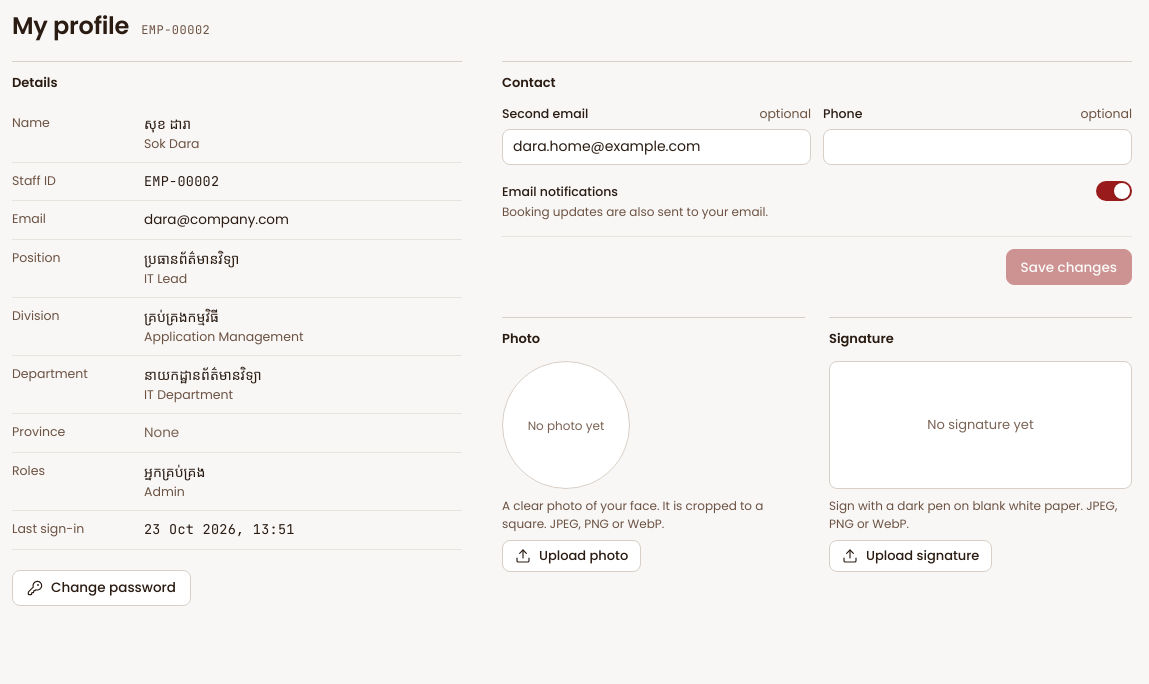
Test: ProfileView › shows API field errors under the field and in the summary
The width and height of the screenshot is (1149, 684).
Replace the text in the field with id "secondary_email" with "dara@company.com" at (656, 147), box 502,129 -> 811,165
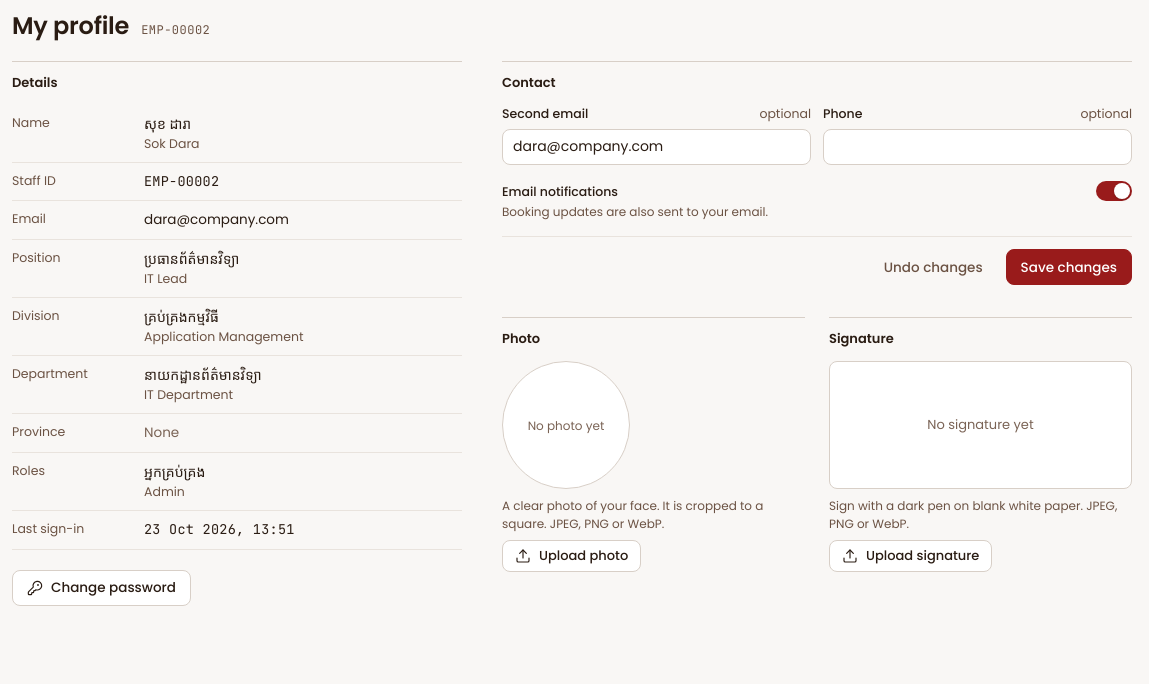
Submit the form, box 502,105 -> 1132,285
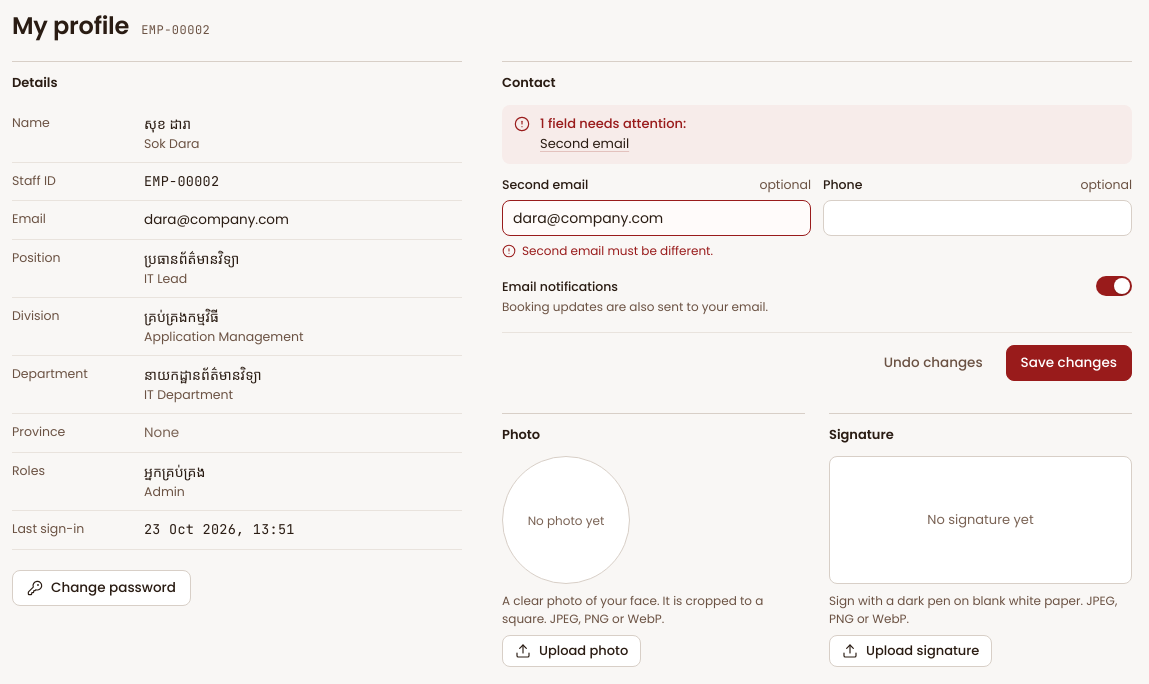
Expected: the element with id "secondary_email-error" reads "Second email must be different.", 522,242 -> 713,260
Expected: the message "1 field needs attention: Second email" is shown, 502,105 -> 1132,164
